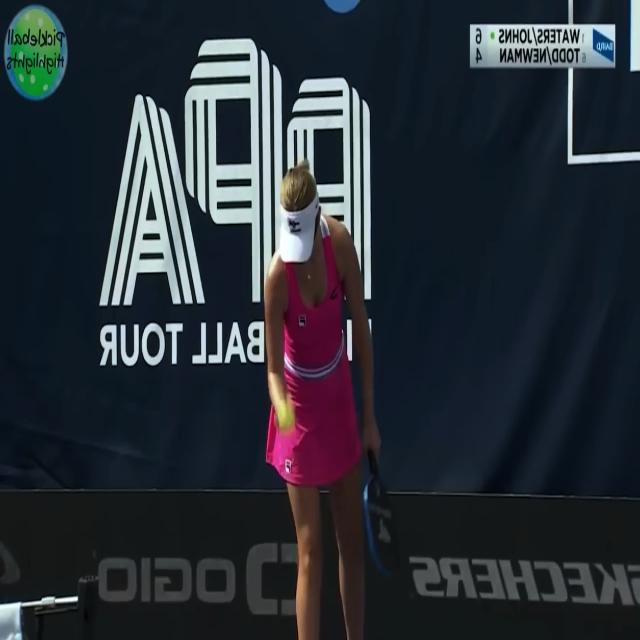Pickleball: (278, 397, 294, 436)
